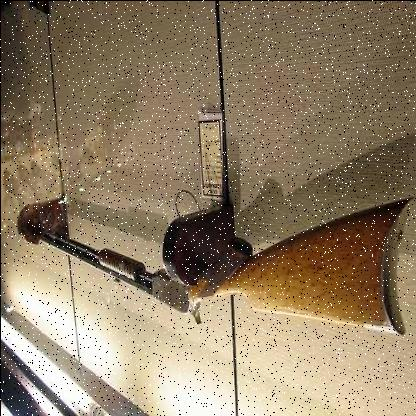rifle: (1, 151, 399, 375)
